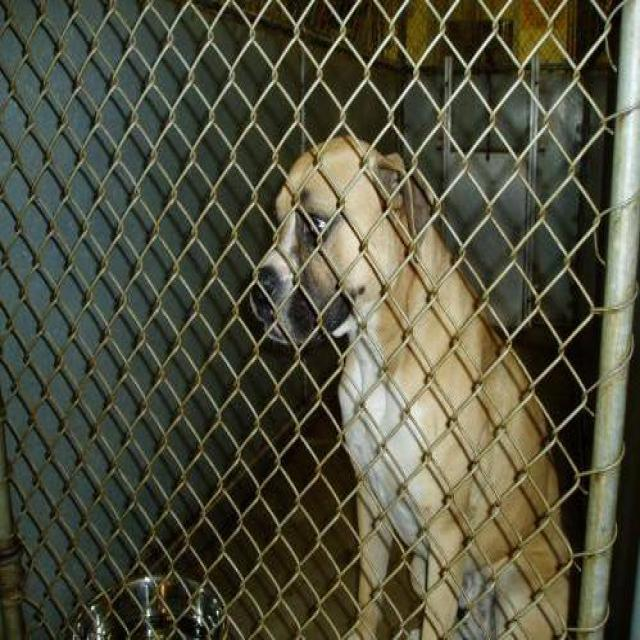dogs: (248, 121, 592, 640)
